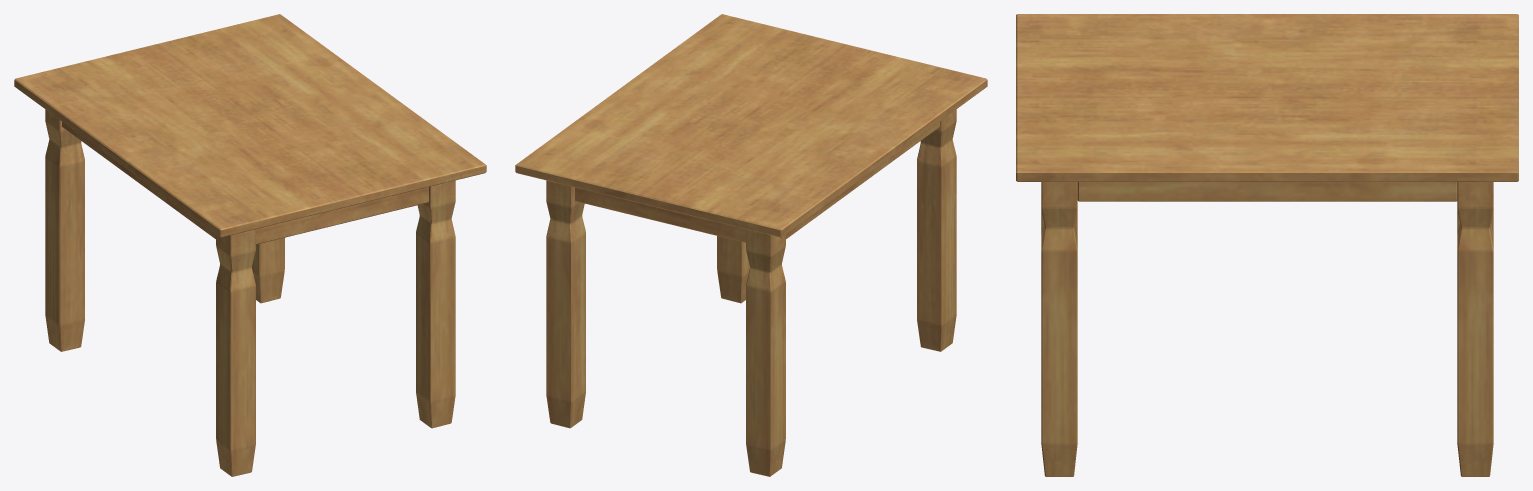
The model's file is DiningTable.dae.
3 views of the same model, side by side, from view 1: azimuth 30°, elevation 25°; view 2: azimuth 150°, elevation 25°; view 3: azimuth 270°, elevation 25° (orthographic). The views are drawn at different scales.
Parts seen in each view (by area): view 1: DiningTable; view 2: DiningTable; view 3: DiningTable.
Part boxes in pixels (x1=…): DiningTable: x1=14, y1=14, x2=486, y2=476; DiningTable: x1=515, y1=14, x2=987, y2=476; DiningTable: x1=1016, y1=14, x2=1518, y2=476.
Size of what is drawn, in the model's own units: 82 by 110 by 77.13.
1 material, 1 textured.
